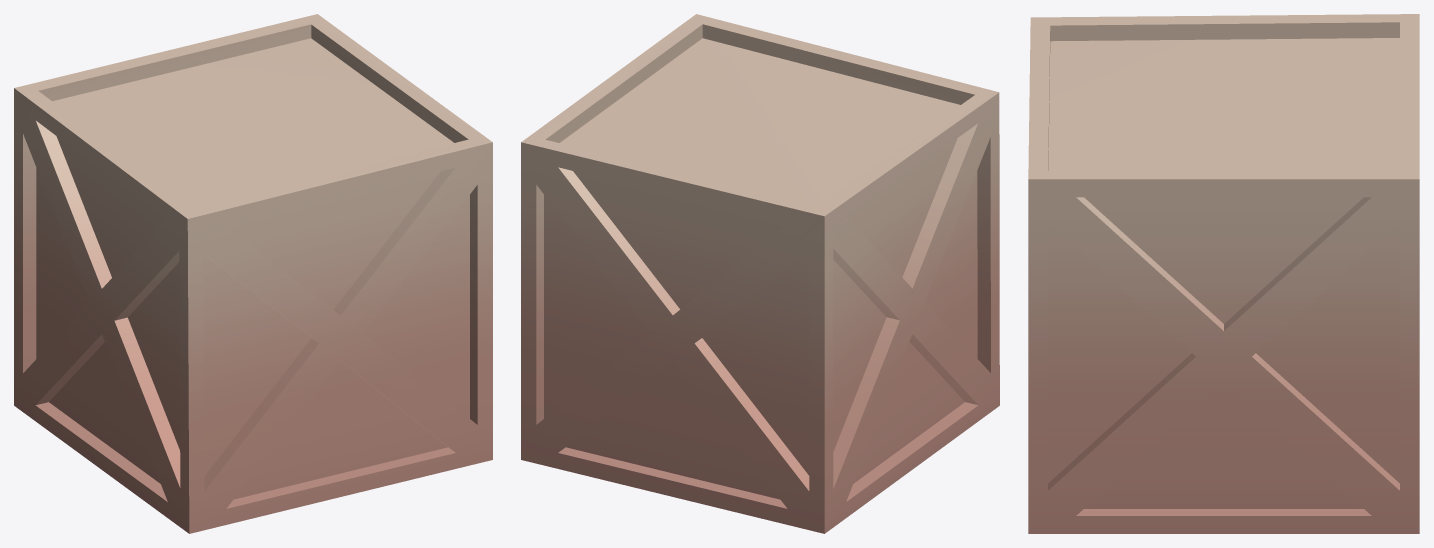
The model's file is Kiste1x1.glb.
The picture shows the model from 3 angles, left to right: view 1: azimuth 30°, elevation 25°; view 2: azimuth 150°, elevation 25°; view 3: azimuth 270°, elevation 25°; orthographic projection. The views are drawn at different scales.
Parts seen in each view (by area): view 1: Kiste1x1; view 2: Kiste1x1; view 3: Kiste1x1.
Part boxes in pixels (x1=…): Kiste1x1: x1=14, y1=14, x2=492, y2=533; Kiste1x1: x1=521, y1=14, x2=999, y2=533; Kiste1x1: x1=1028, y1=14, x2=1419, y2=533.
Bounding box in the file's own units: 0.5009 × 0.5 × 0.5.
1 material, 1 textured.
